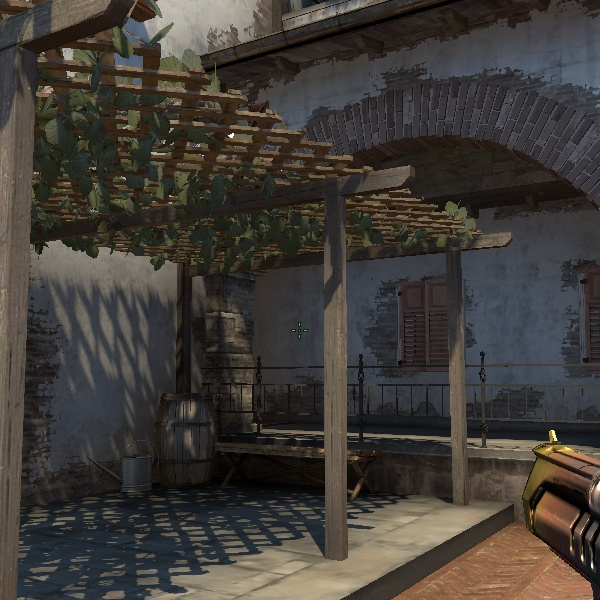ct_body: (20, 1, 268, 551)
